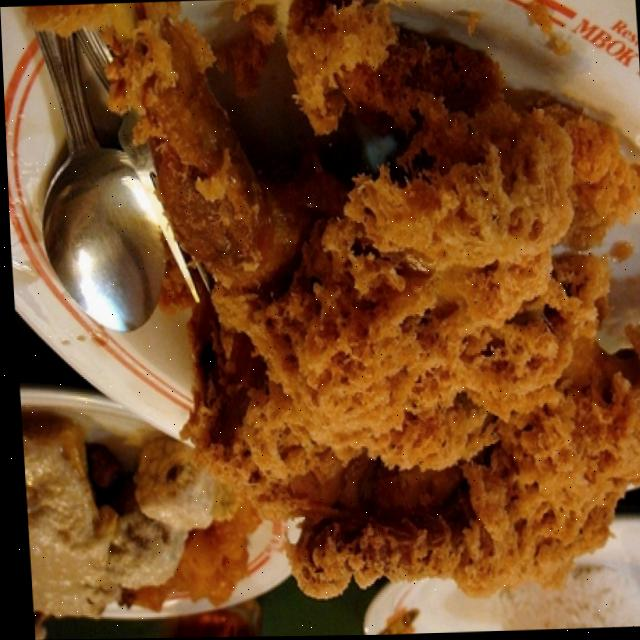鸡肉料理 含炸鸡: (20, 0, 640, 612)
